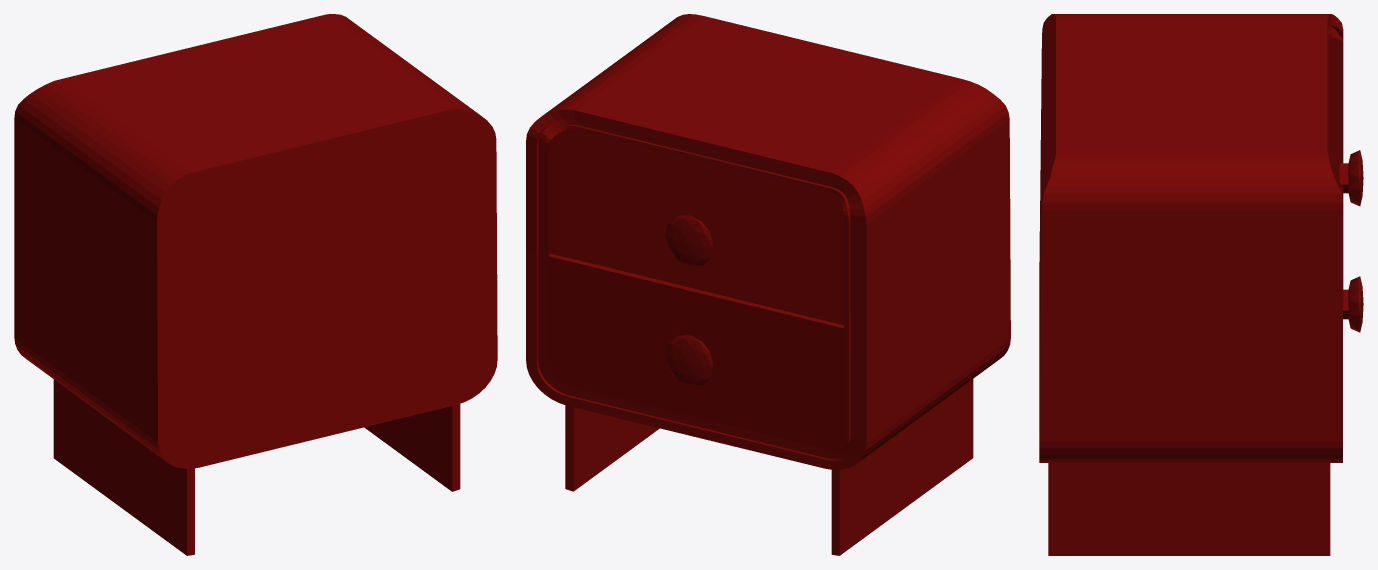
The model's file is SM_nightstand.fbx.
3 renders of one model, left to right at view 1: azimuth 30°, elevation 25°; view 2: azimuth 150°, elevation 25°; view 3: azimuth 270°, elevation 25°, orthographic. The views are drawn at different scales.
Parts seen in each view (by area): view 1: Cube; view 2: Cube, Icosphere, Icosphere.001; view 3: Cube, Icosphere.001, Icosphere.
Boxes of the visible parts, x1,y1,x2,y2 form: Cube: (14, 14, 497, 555); Cube: (526, 14, 1010, 555); Icosphere: (665, 335, 712, 386); Icosphere.001: (665, 215, 712, 266); Cube: (1039, 14, 1343, 555); Icosphere.001: (1339, 150, 1363, 206); Icosphere: (1343, 276, 1363, 332).
Bounding box in the file's own units: 198 × 212 × 155.
